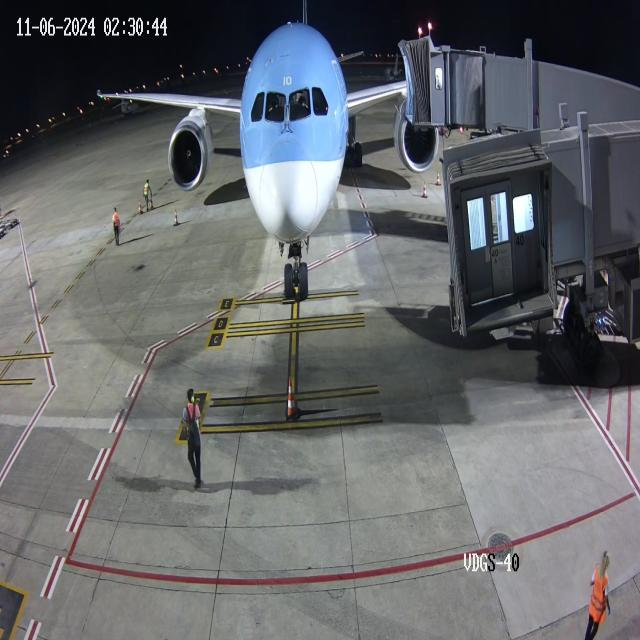bridge: (416, 17, 488, 136)
plane: (93, 0, 395, 303)
window: (250, 82, 330, 127)
